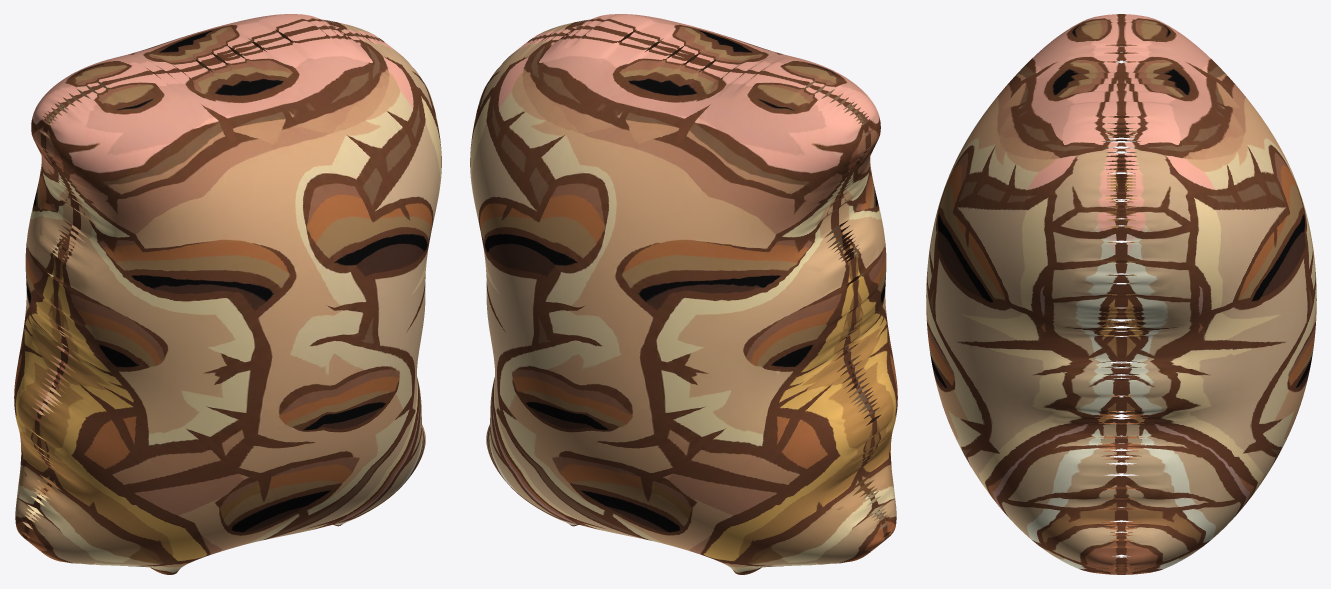
File: honeycomb_cliff.glb
3 views of the same model, side by side, from view 1: azimuth 30°, elevation 25°; view 2: azimuth 150°, elevation 25°; view 3: azimuth 270°, elevation 25° (orthographic). The views are drawn at different scales.
Visible parts, largest first — view 1: honeycomb_cliff; view 2: honeycomb_cliff; view 3: honeycomb_cliff.
Part boxes in pixels (bbox=[...]): honeycomb_cliff: bbox=[14, 14, 441, 574]; honeycomb_cliff: bbox=[470, 14, 897, 574]; honeycomb_cliff: bbox=[926, 14, 1316, 574].
Bounding box in the file's own units: 0.9871 × 1.14 × 0.9028.
Materials: 1 (1 with a texture image).
